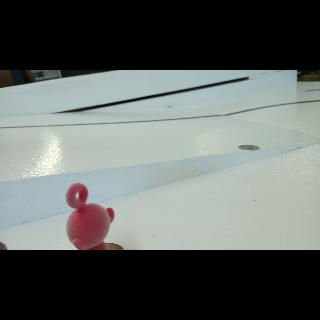teletubby: (66, 183, 114, 250)
